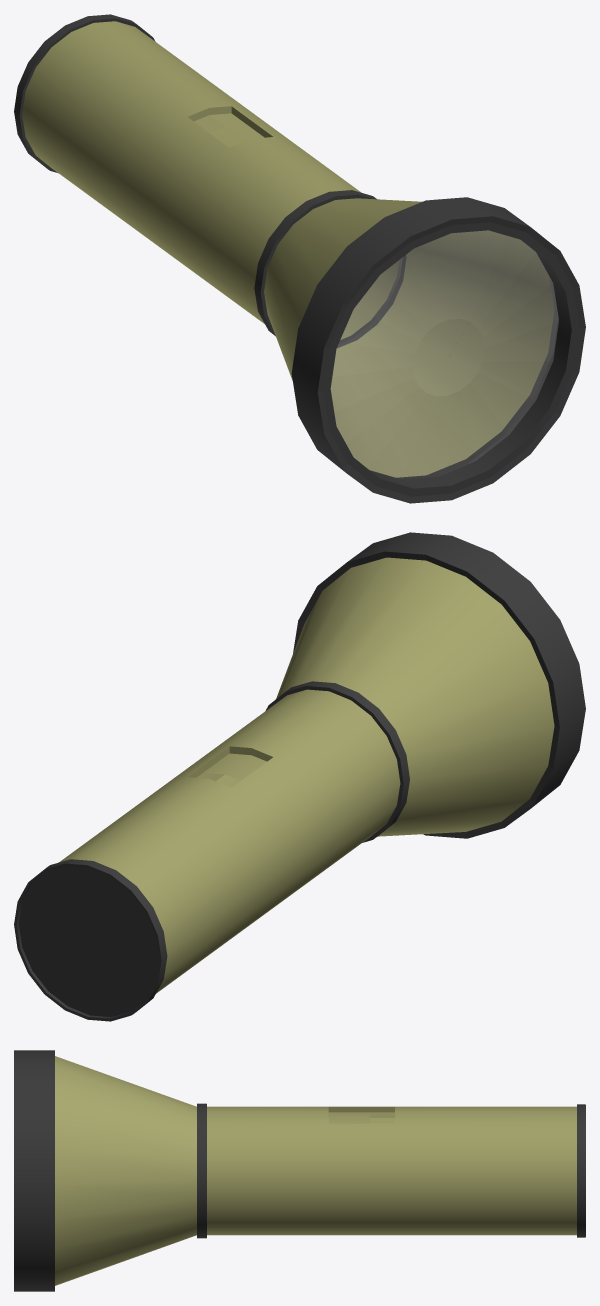
The model's file is Flashlight.fbx.
3 views of the same model, one above another, from view 1: azimuth 30°, elevation 25°; view 2: azimuth 150°, elevation 25°; view 3: azimuth 270°, elevation 25° (orthographic). The views are drawn at different scales.
Parts seen in each view (by area): view 1: pCylinder1; view 2: pCylinder1; view 3: pCylinder1.
Part boxes in pixels (x1,y1,x2,y2): pCylinder1: (14, 14, 585, 503); pCylinder1: (14, 532, 585, 1021); pCylinder1: (14, 1050, 585, 1291).
Size of the model in its own units: 3.76 by 3.76 by 8.84.
